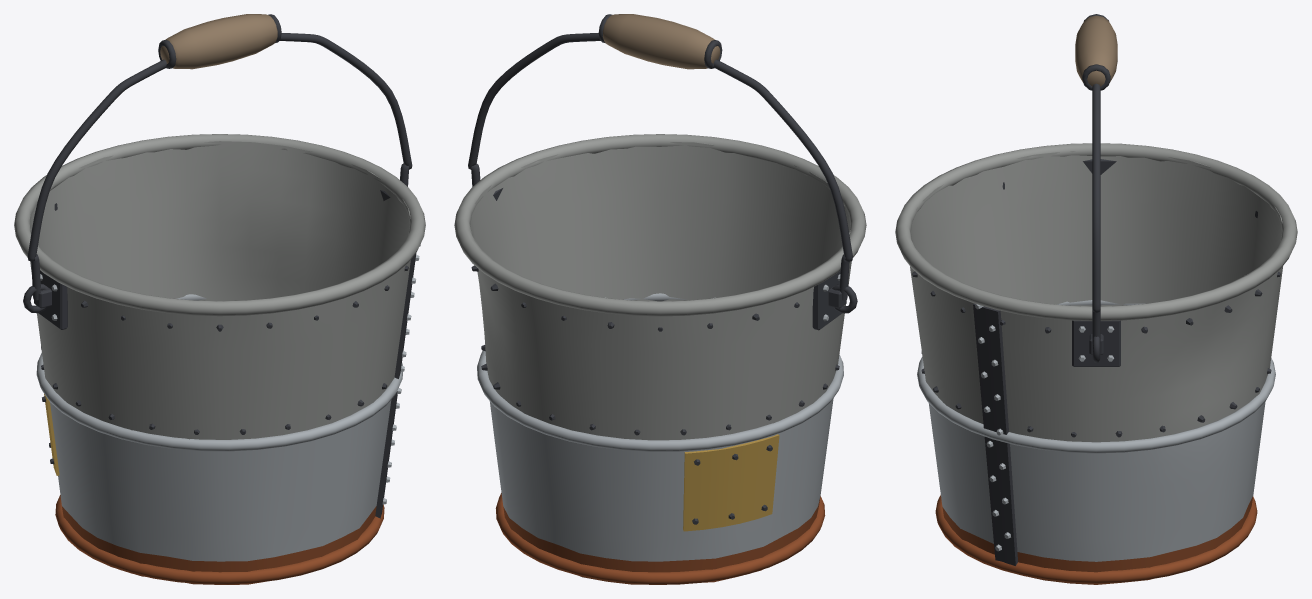
The model's file is carry_bucket_metal.fbx.
The picture shows the model from 3 angles, left to right: view 1: azimuth 30°, elevation 25°; view 2: azimuth 150°, elevation 25°; view 3: azimuth 270°, elevation 25°; orthographic projection. The views are drawn at different scales.
Visible parts, largest first — view 1: Carry_Bucket_Metal_Body, Carry_Bucket_Metal_Bail, Carry_Bucket_Metal_Plating, Carry_Bucket_Metal_Ears; view 2: Carry_Bucket_Metal_Body, Carry_Bucket_Metal_Bail, Carry_Bucket_Metal_Plating, Carry_Bucket_Metal_Ears; view 3: Carry_Bucket_Metal_Body, Carry_Bucket_Metal_Plating, Carry_Bucket_Metal_Bail, Carry_Bucket_Metal_Ears.
Boxes of the visible parts, box(x1,y1,x2,y2) form: Carry_Bucket_Metal_Body: box(14, 134, 425, 584); Carry_Bucket_Metal_Bail: box(27, 14, 412, 300); Carry_Bucket_Metal_Plating: box(31, 203, 420, 518); Carry_Bucket_Metal_Ears: box(23, 190, 390, 329); Carry_Bucket_Metal_Body: box(454, 134, 866, 584); Carry_Bucket_Metal_Bail: box(468, 14, 852, 300); Carry_Bucket_Metal_Plating: box(471, 265, 849, 531); Carry_Bucket_Metal_Ears: box(493, 188, 857, 330); Carry_Bucket_Metal_Body: box(895, 143, 1297, 584); Carry_Bucket_Metal_Plating: box(912, 182, 1280, 565); Carry_Bucket_Metal_Bail: box(1075, 14, 1117, 343); Carry_Bucket_Metal_Ears: box(1072, 159, 1120, 366).
Bounding box in the file's own units: 49.87 × 60.56 × 45.36.
